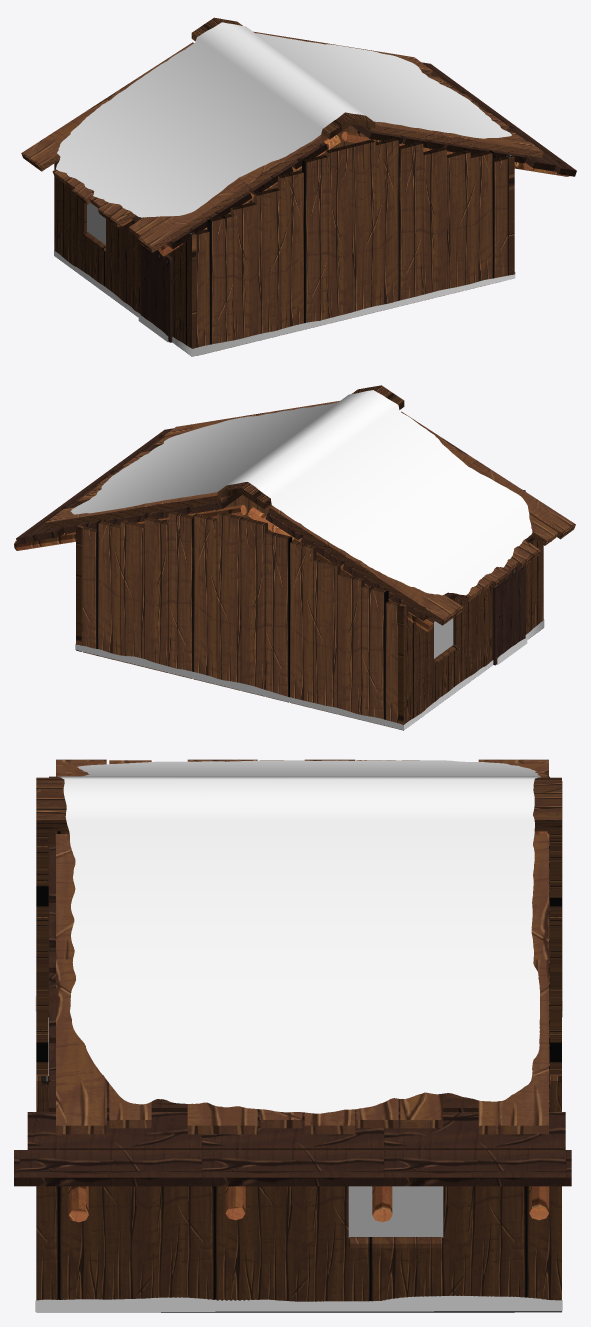
Rendered from shelter.FBX.
3 views of the same model, one above another, from view 1: azimuth 30°, elevation 25°; view 2: azimuth 150°, elevation 25°; view 3: azimuth 270°, elevation 25° (orthographic). The views are drawn at different scales.
Visible parts, largest first — view 1: Shelter, Door; view 2: Shelter, Door; view 3: Shelter.
Part boxes in pixels (box(x1,y1,x2,y2)): Shelter: box(21, 17, 576, 356); Door: box(138, 244, 172, 342); Shelter: box(14, 385, 575, 730); Door: box(492, 565, 527, 665); Shelter: box(14, 759, 571, 1312).
Bounding box in the file's own units: 290 × 131 × 174.
